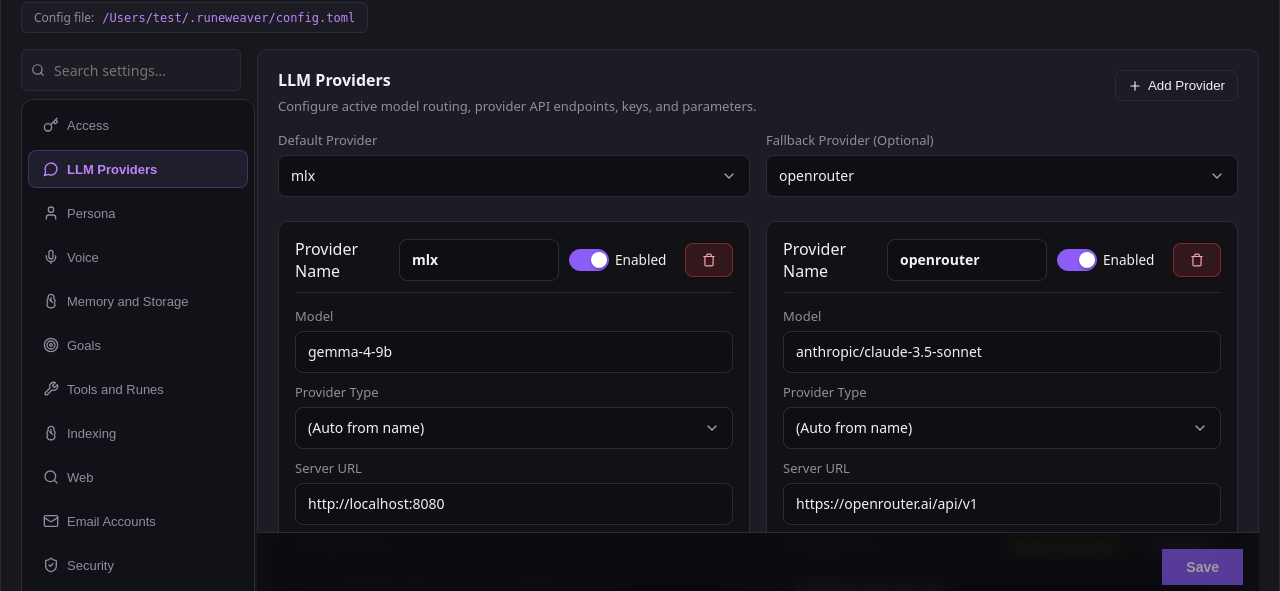
Test: SettingsManager › allows adding an email account
The image size is (1280, 591).
Check: the 1st field showing "gemma-4-9b" is shown, box [295, 331, 733, 373]
Click the tab "Email Accounts" at x=138, y=521, box [28, 502, 248, 540]
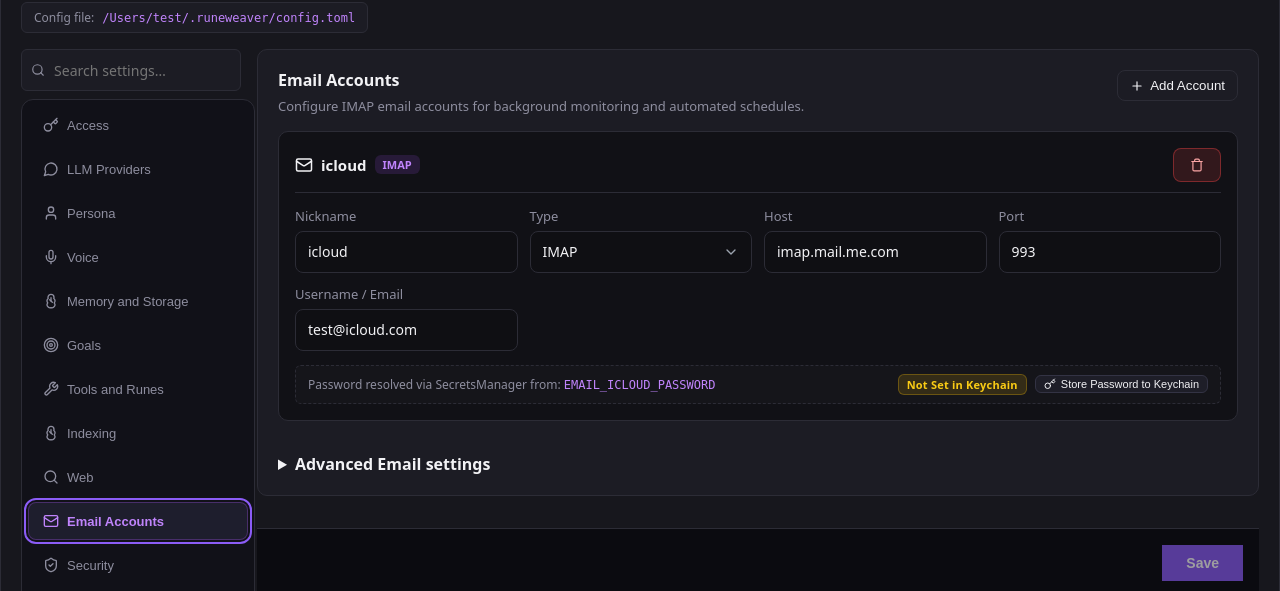
Click the button "Add Account" at x=1178, y=86, box [1117, 70, 1238, 101]
(page scrolled)
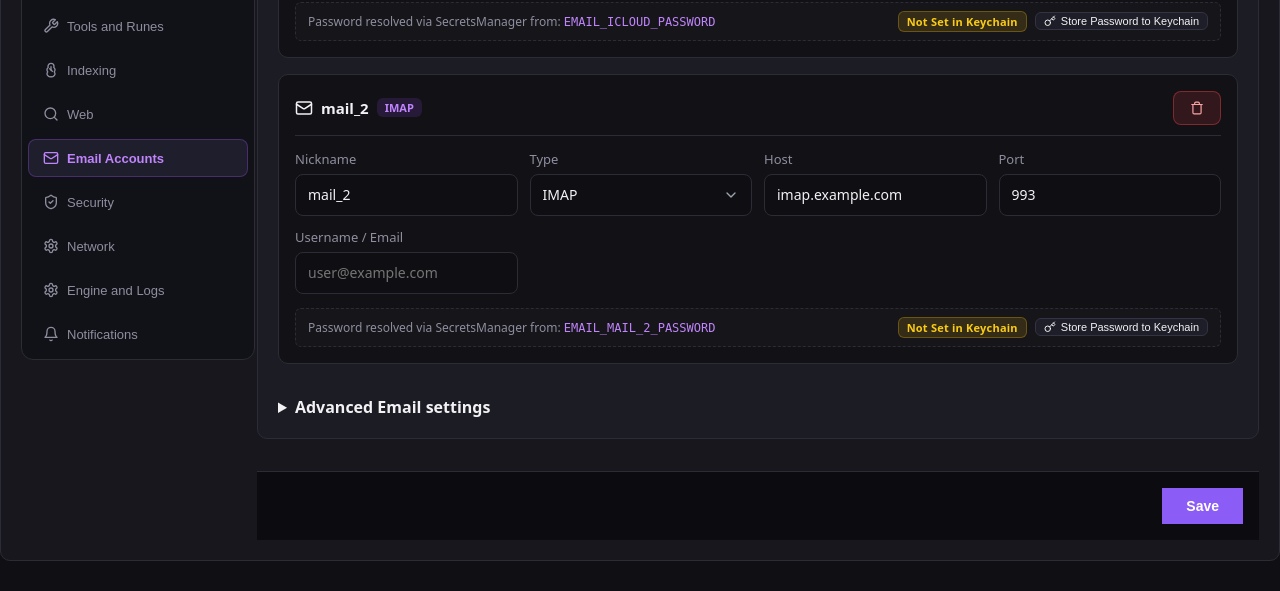
Check: the 2nd field showing "mail_2" is shown, box [295, 174, 518, 216]
Check: the text "EMAIL_MAIL_2_PASSWORD" is shown, box [564, 321, 715, 335]
